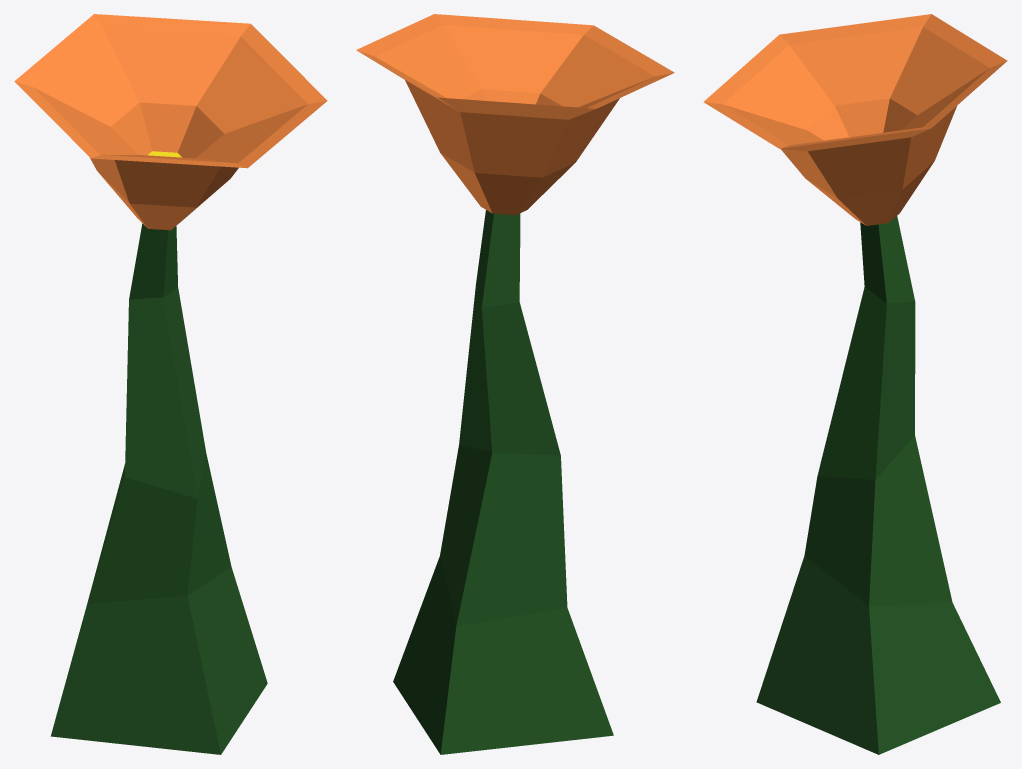
File: fiore4.glb
3 views of the same model, side by side, from view 1: azimuth 30°, elevation 25°; view 2: azimuth 150°, elevation 25°; view 3: azimuth 270°, elevation 25° (orthographic). The views are drawn at different scales.
Visible parts, largest first — view 1: Cylinder.001; view 2: Cylinder.001; view 3: Cylinder.001.
Part boxes in pixels (x1,y1,x2,y2): Cylinder.001: (14,14,327,754); Cylinder.001: (356,14,674,754); Cylinder.001: (703,14,1007,754).
Size of the model in its own units: 0.1625 by 0.4256 by 0.1829.
